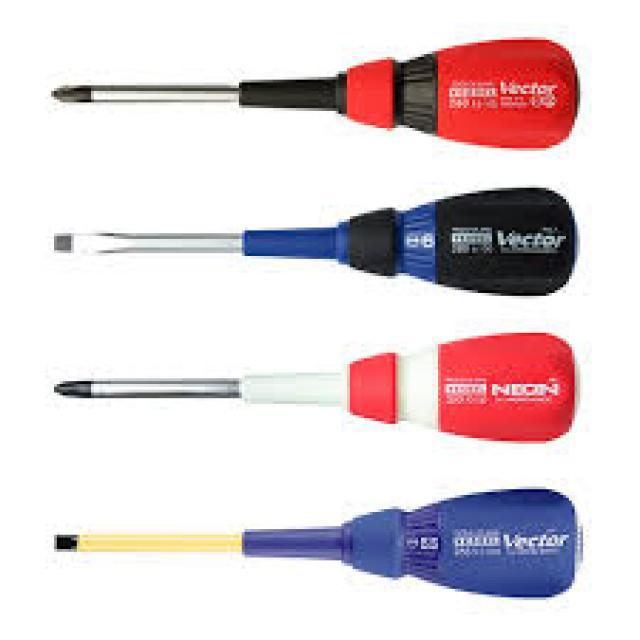screwdriver: (48, 320, 580, 451), (51, 182, 580, 307), (51, 484, 586, 604), (48, 37, 583, 154)
